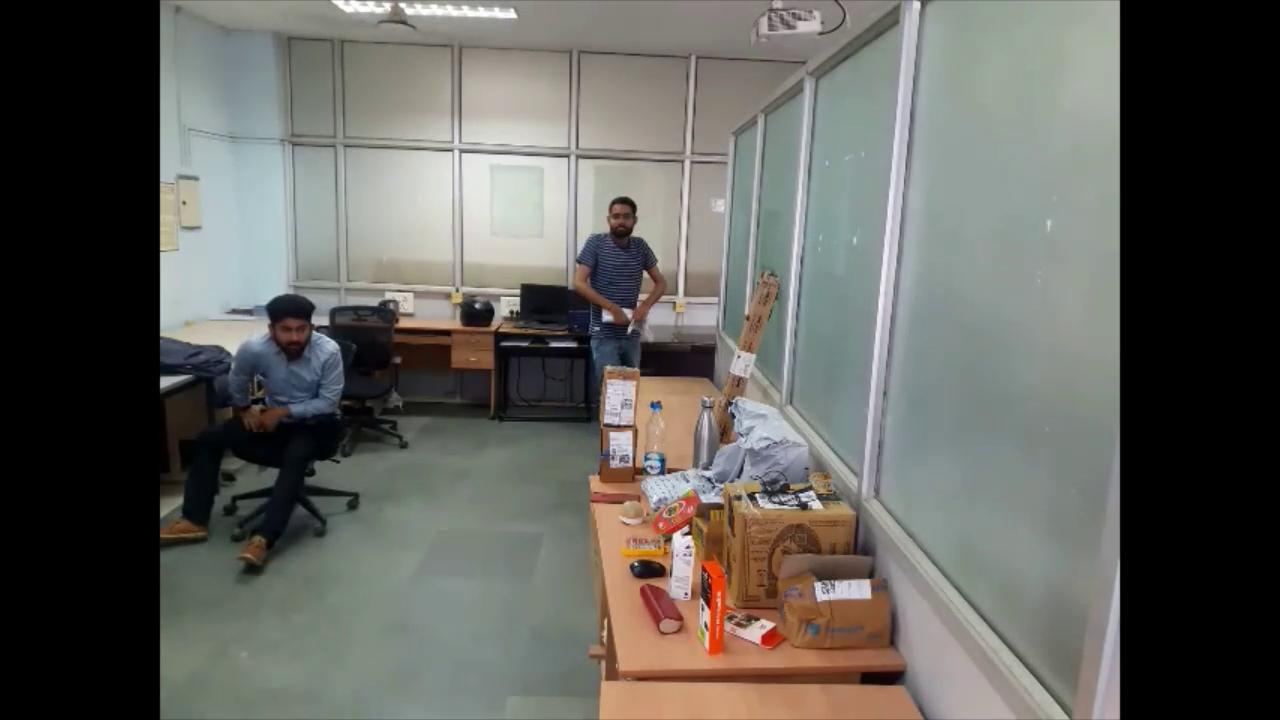Normal: (162, 267, 362, 591), (554, 189, 660, 494)
